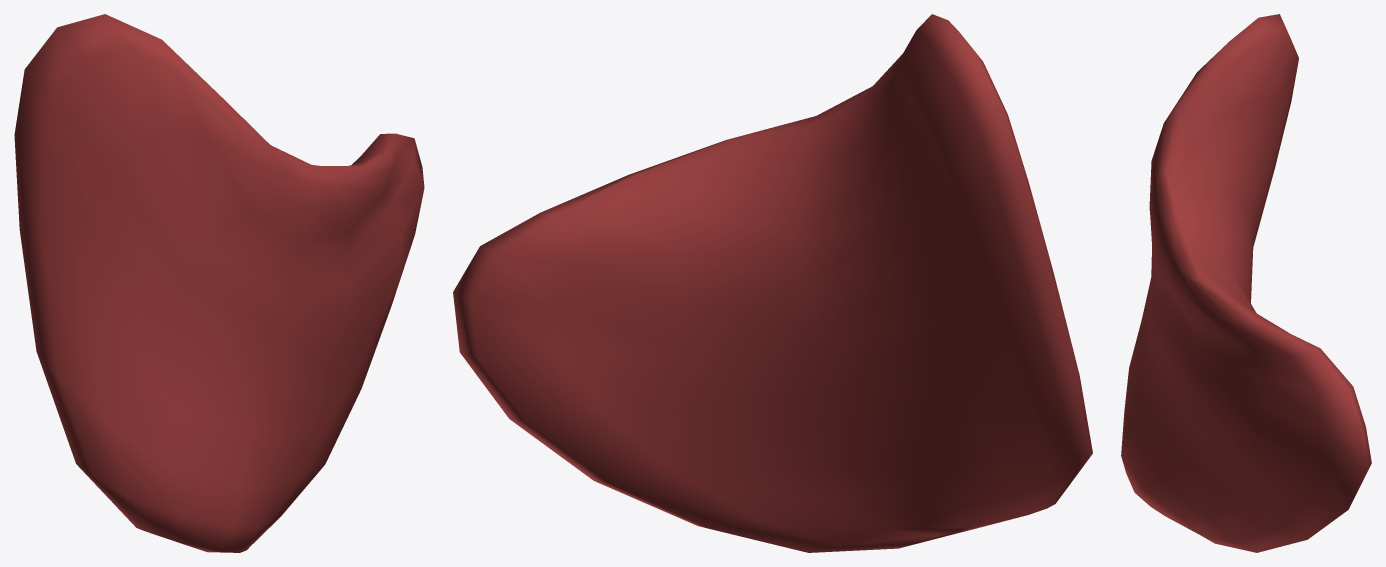
The model's file is superior-bursa-of-biceps-femoris-muscle-r.glb.
3 views of the same model, side by side, from view 1: azimuth 30°, elevation 25°; view 2: azimuth 150°, elevation 25°; view 3: azimuth 270°, elevation 25° (orthographic). The views are drawn at different scales.
Visible parts, largest first — view 1: Superior bursa of biceps femoris muscle.r; view 2: Superior bursa of biceps femoris muscle.r; view 3: Superior bursa of biceps femoris muscle.r.
Boxes of the visible parts, <box> form: Superior bursa of biceps femoris muscle.r: <box>14,14,424,552</box>; Superior bursa of biceps femoris muscle.r: <box>453,14,1092,552</box>; Superior bursa of biceps femoris muscle.r: <box>1121,14,1371,552</box>.
Bounding box in the file's own units: 0.0207 × 0.0221 × 0.0109.
